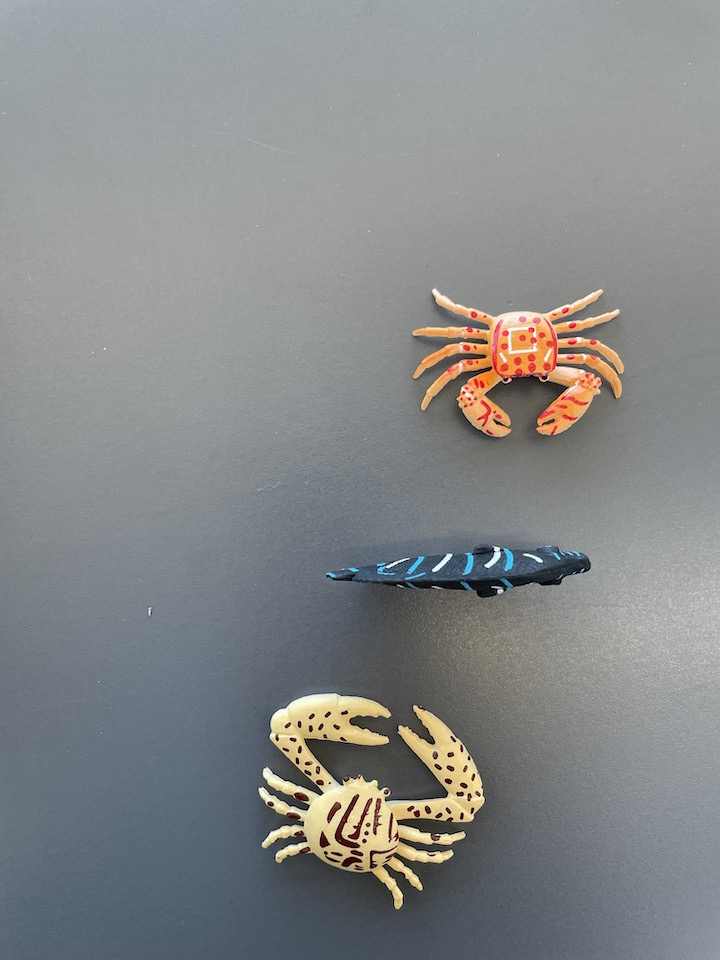crab: (258, 693, 486, 909), (411, 287, 625, 440)
fish: (323, 543, 595, 601)
